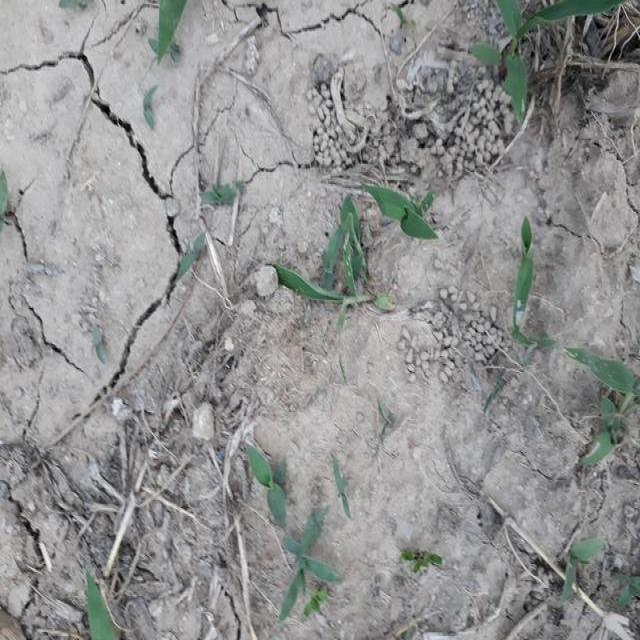weed: (477, 8, 618, 104), (314, 200, 390, 292), (508, 212, 552, 340), (284, 530, 340, 618), (242, 445, 296, 527)
